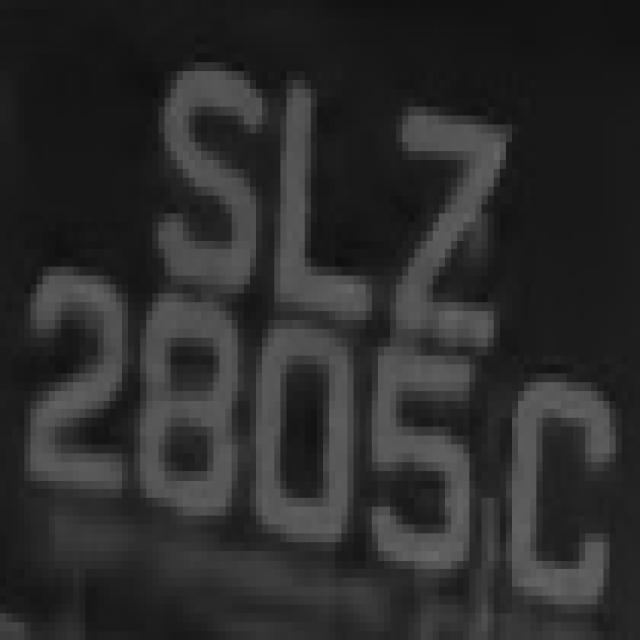0: (250, 302, 366, 578)
2: (37, 240, 128, 498)
5: (360, 311, 476, 613)
8: (140, 240, 244, 533)
C: (482, 347, 616, 622)
L: (274, 71, 390, 347)
S: (134, 45, 274, 302)
Z: (372, 80, 512, 356)
